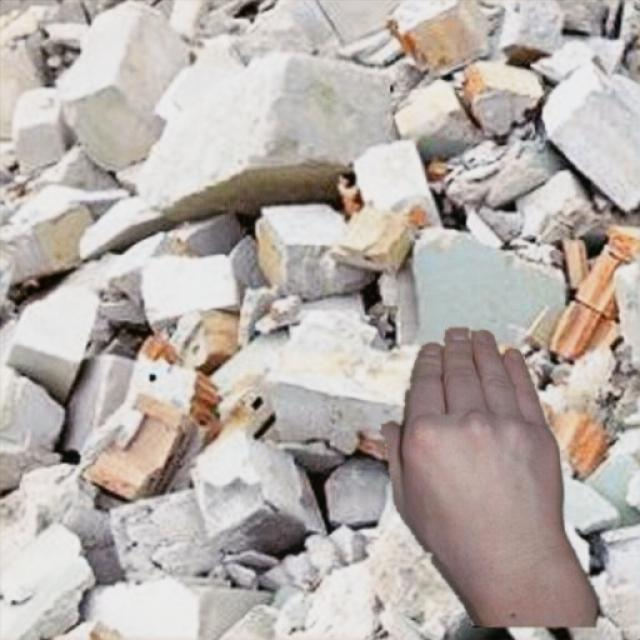Person in Rubble: (379, 328, 599, 626)
